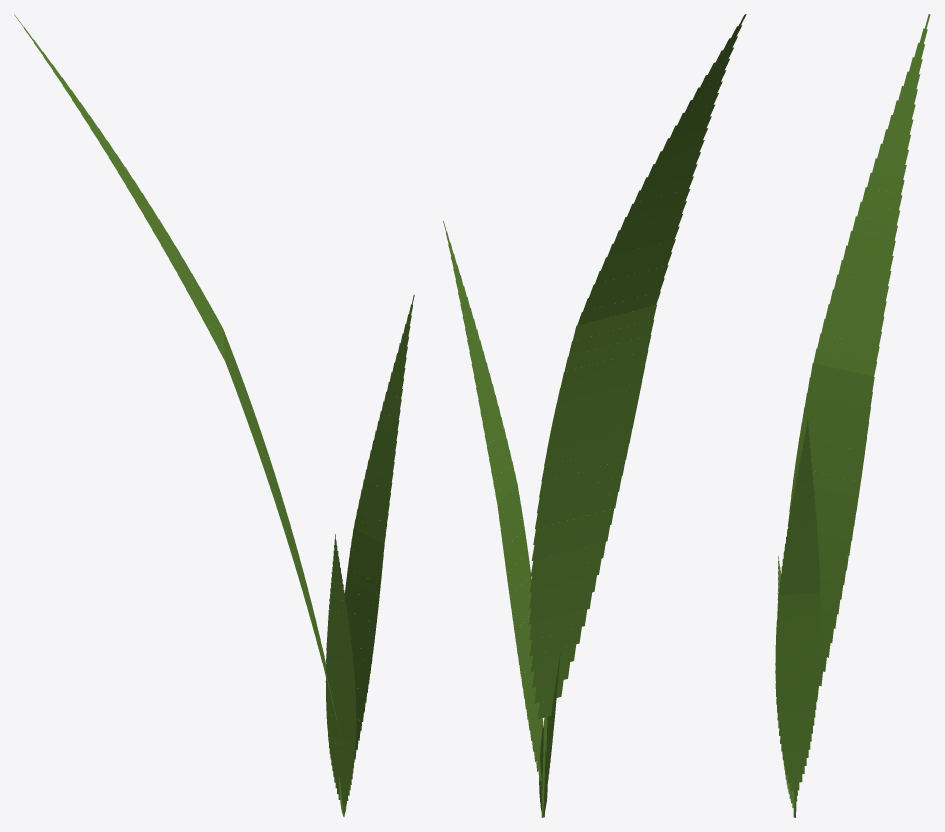
File: maize_005_day_040.dae
3 views of the same model, side by side, from view 1: azimuth 30°, elevation 25°; view 2: azimuth 150°, elevation 25°; view 3: azimuth 270°, elevation 25° (orthographic). The views are drawn at different scales.
Parts seen in each view (by area): view 1: node; view 2: node; view 3: node.
Boxes of the visible parts, x1,y1,x2,y2 form: node: (14,14,414,816); node: (443,14,746,817); node: (775,14,930,817).
Bounding box in the file's own units: 0.0937 × 0.2188 × 0.0441.
1 material, 1 textured.
